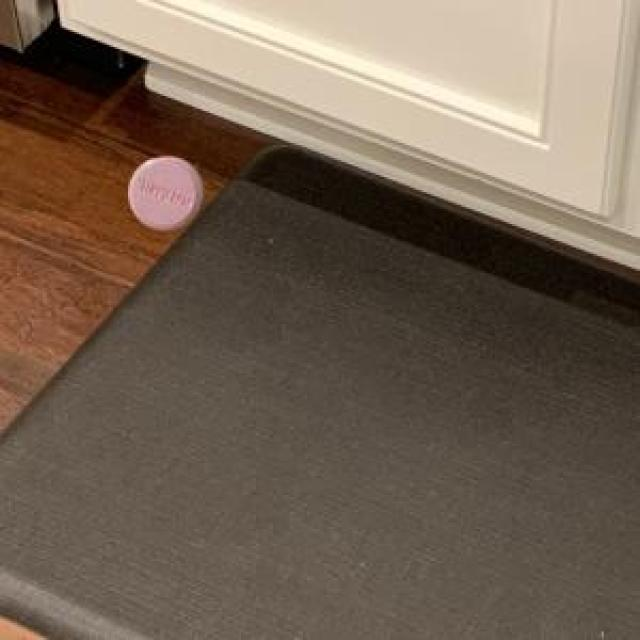Kremil_S: (113, 149, 214, 240)
